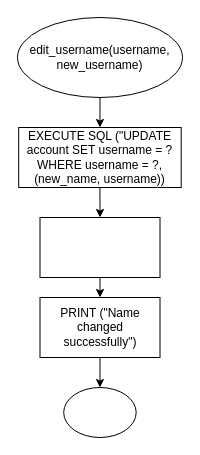
The diagram is 200 pixels wide and 455 high, and some of its shapes have lost their labels. The box of each missing label's shape, as (x1, y1, x2, y2) in pixels:
COMMIT CHANGES: (39, 216, 160, 278)
EXIT: (63, 386, 136, 438)
